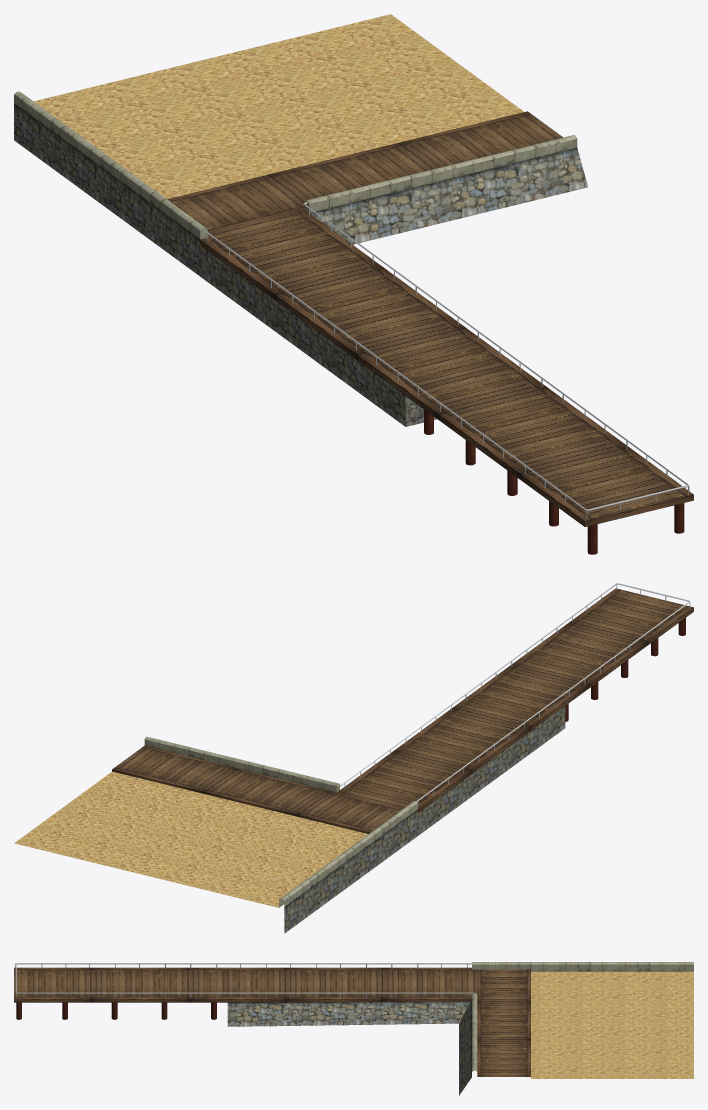
The model's file is Dock_Bridge_L_NoSand.FBX.
3 views of the same model, one above another, from view 1: azimuth 30°, elevation 25°; view 2: azimuth 150°, elevation 25°; view 3: azimuth 270°, elevation 25° (orthographic). The views are drawn at different scales.
Parts seen in each view (by area): view 1: Dock_Bridge_L_NoSand; view 2: Dock_Bridge_L_NoSand; view 3: Dock_Bridge_L_NoSand.
Boxes of the visible parts, x1,y1,x2,y2 form: Dock_Bridge_L_NoSand: (14, 14, 693, 554); Dock_Bridge_L_NoSand: (14, 583, 693, 933); Dock_Bridge_L_NoSand: (14, 962, 693, 1095).
Size of the model in its own units: 29.47 by 77.33 by 3.6.
